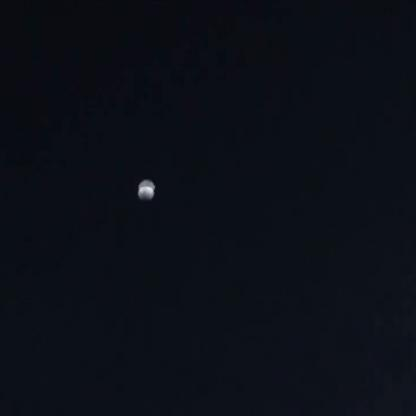ball: (131, 168, 161, 202)
